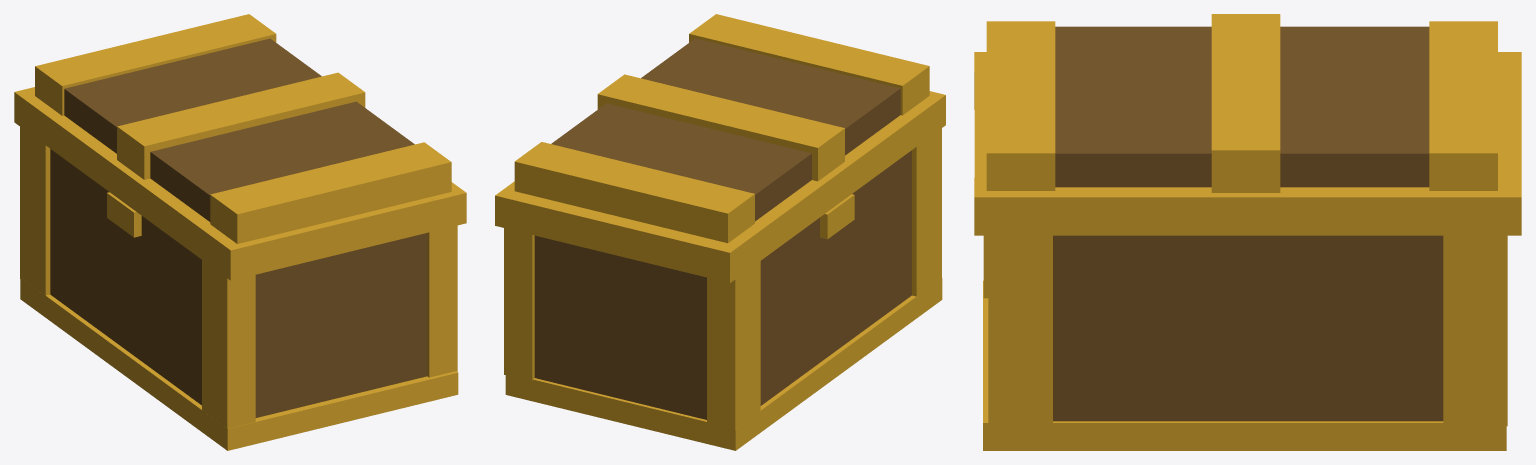
Rendered from Chest.fbx.
The picture shows the model from 3 angles, left to right: view 1: azimuth 30°, elevation 25°; view 2: azimuth 150°, elevation 25°; view 3: azimuth 270°, elevation 25°; orthographic projection. The views are drawn at different scales.
Parts seen in each view (by area): view 1: Cube.002, Cube.011, Cube.003, Cube.004, Cube.001, Cube, Cube.008, Cube.005, Cube.007; view 2: Cube.002, Cube.011, Cube.008, Cube.004, Cube.001, Cube.005, Cube.003, Cube.006, Cube; view 3: Cube.011, Cube.002, Cube.004, Cube.001, Cube.006, Cube.007, Cube.003, Cube.008.
Boxes of the visible parts, x1,y1,x2,y2 form: Cube.002: (50,149,427,417); Cube.011: (14,38,466,280); Cube.003: (210,142,451,243); Cube.004: (20,277,458,450); Cube.001: (117,72,365,179); Cube: (202,260,255,428); Cube.008: (35,14,276,115); Cube.005: (20,127,50,295); Cube.007: (427,225,457,377); Cube.002: (534,150,911,419); Cube.011: (495,38,945,282); Cube.008: (514,142,754,243); Cube.004: (505,278,942,450); Cube.001: (597,74,844,181); Cube.005: (707,261,760,430); Cube.003: (689,14,929,115); Cube.006: (504,228,534,381); Cube: (912,128,941,296); Cube.011: (974,26,1521,235); Cube.002: (1053,235,1443,421); Cube.004: (983,280,1506,450); Cube.001: (1211,14,1280,192); Cube.006: (1443,235,1507,426); Cube.007: (988,235,1052,426); Cube.003: (986,21,1055,190); Cube.008: (1429,21,1497,190).
Size of the model in its own units: 214 by 203 by 336.
